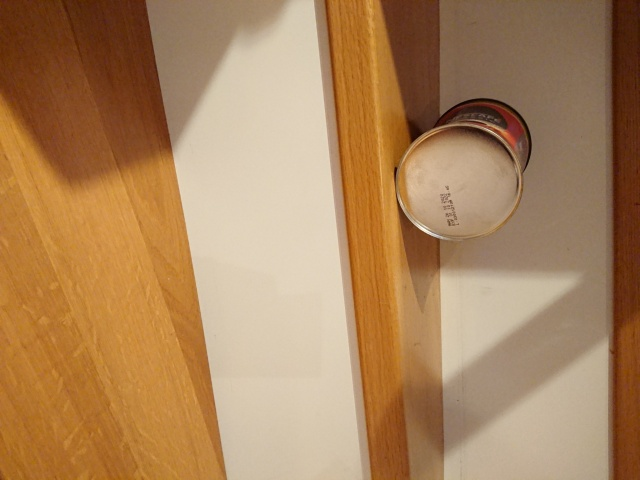Nescafe Classic 225g: (391, 95, 535, 245)
